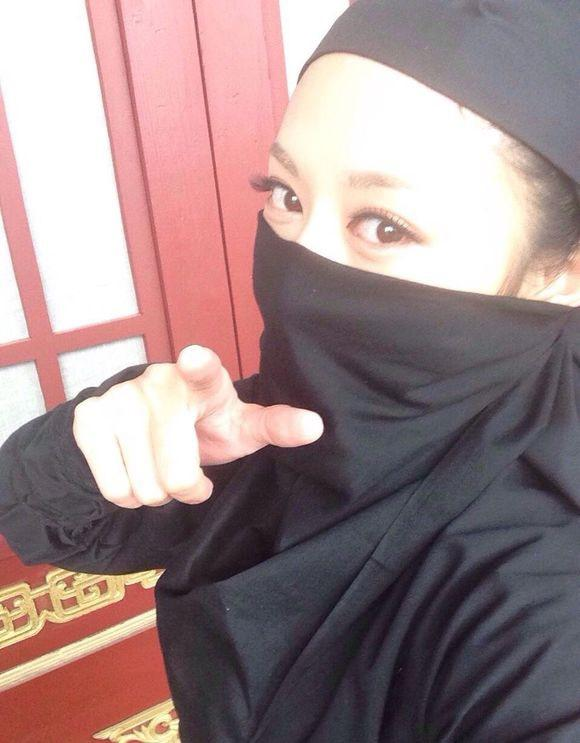OK: (239, 129, 559, 449)
